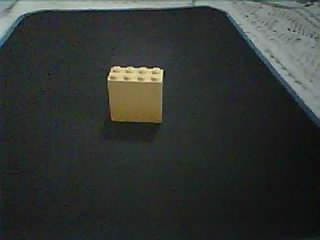lego: (105, 64, 164, 124)
